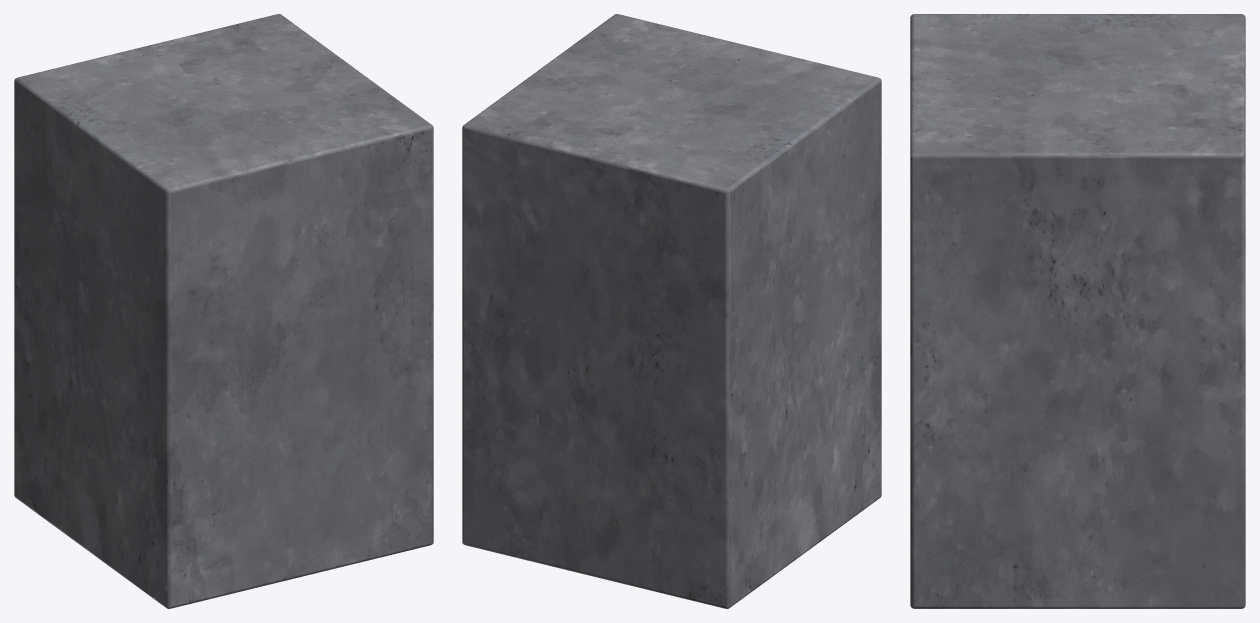
Rendered from platform.fbx.
3 views of the same model, side by side, from view 1: azimuth 30°, elevation 25°; view 2: azimuth 150°, elevation 25°; view 3: azimuth 270°, elevation 25° (orthographic). The views are drawn at different scales.
Visible parts, largest first — view 1: Cube; view 2: Cube; view 3: Cube.
Part boxes in pixels (x1,y1,x2,y2): Cube: [14, 14, 433, 608]; Cube: [462, 14, 881, 608]; Cube: [910, 14, 1245, 608].
Size of the model in its own units: 400 by 600 by 400.
